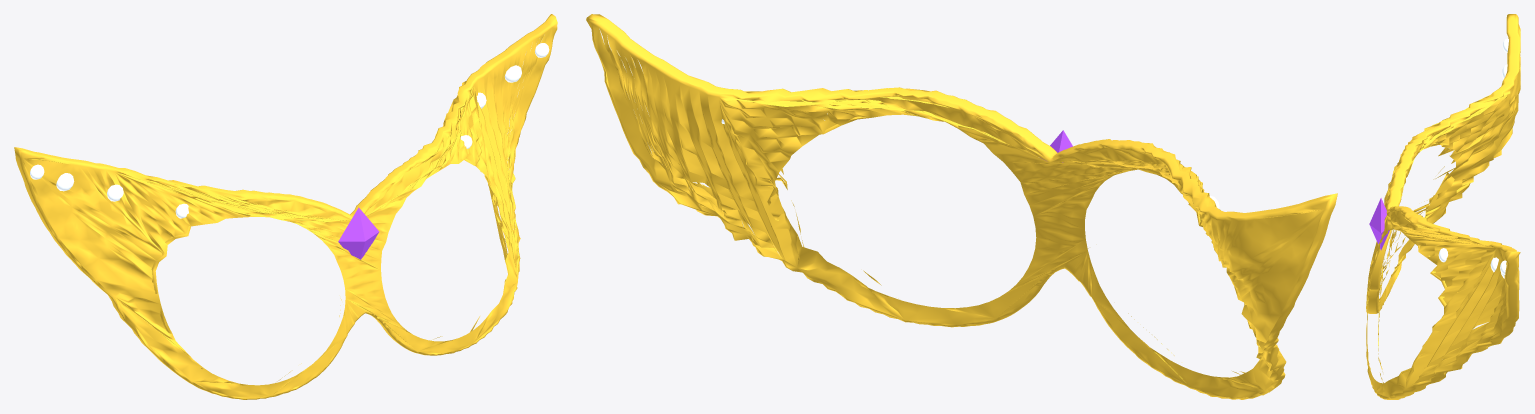
File: beamy-masquerade.glb
The picture shows the model from 3 angles, left to right: view 1: azimuth 30°, elevation 25°; view 2: azimuth 150°, elevation 25°; view 3: azimuth 270°, elevation 25°; orthographic projection. The views are drawn at different scales.
Visible parts, largest first — view 1: BeamyMasquerade; view 2: BeamyMasquerade; view 3: BeamyMasquerade.
Part boxes in pixels (x1,y1,x2,y2): BeamyMasquerade: (14,14,557,399); BeamyMasquerade: (586,14,1337,399); BeamyMasquerade: (1366,14,1520,399).
Bounding box in the file's own units: 0.5744 × 0.2406 × 0.1579.
